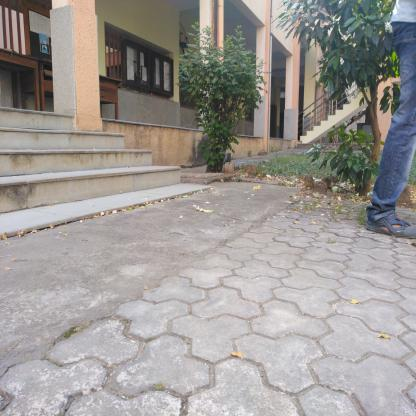stairs: (1, 113, 74, 215)
